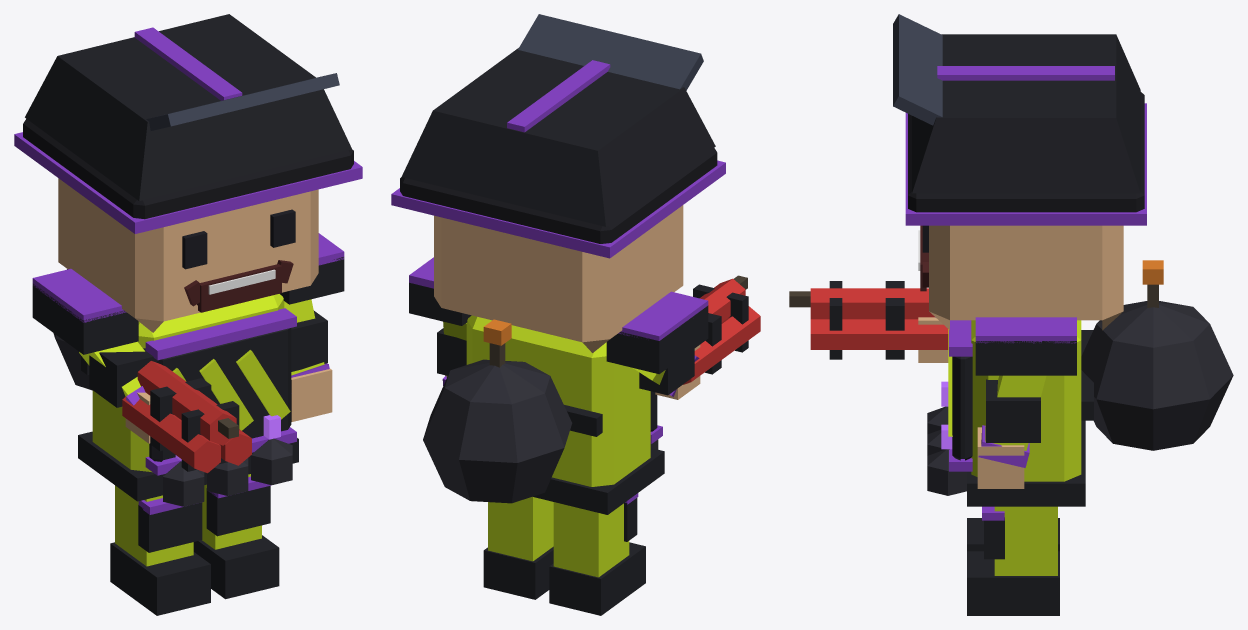
The model's file is daredevil_rare.glb.
3 views of the same model, side by side, from view 1: azimuth 30°, elevation 25°; view 2: azimuth 150°, elevation 25°; view 3: azimuth 270°, elevation 25° (orthographic). The views are drawn at different scales.
Visible parts, largest first — view 1: daredevil_rare_mesh; view 2: daredevil_rare_mesh; view 3: daredevil_rare_mesh.
Part boxes in pixels (left/top/right/bottom): daredevil_rare_mesh: left=14, top=14, right=362, bottom=615; daredevil_rare_mesh: left=391, top=14, right=760, bottom=615; daredevil_rare_mesh: left=789, top=14, right=1233, bottom=615.
Bounding box in the file's own units: 0.6663 × 1.3 × 0.9854.
Materials: 2 (2 with a texture image).
